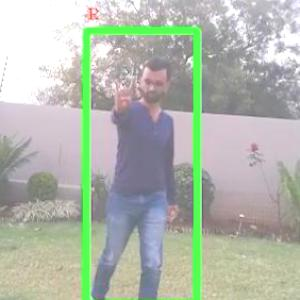takeoff-hand: (106, 77, 138, 120)
